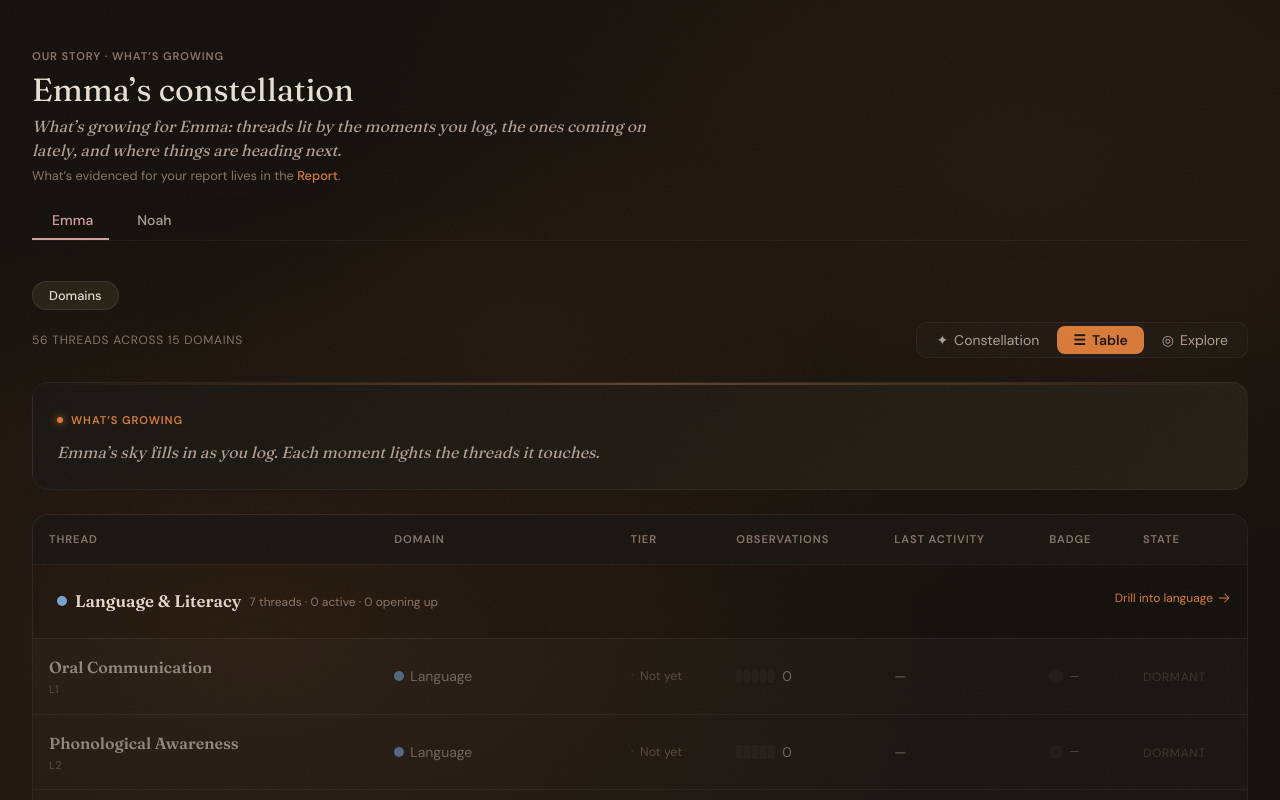
Scenario: ConstellationRoute › DLO confirm optimistic override › flips the confirm control optimistically and keeps it on when the POST succeeds
The width and height of the screenshot is (1280, 800).
Click the button "Drill into": click(640, 601) x1=33 y1=564 x2=1247 y2=638
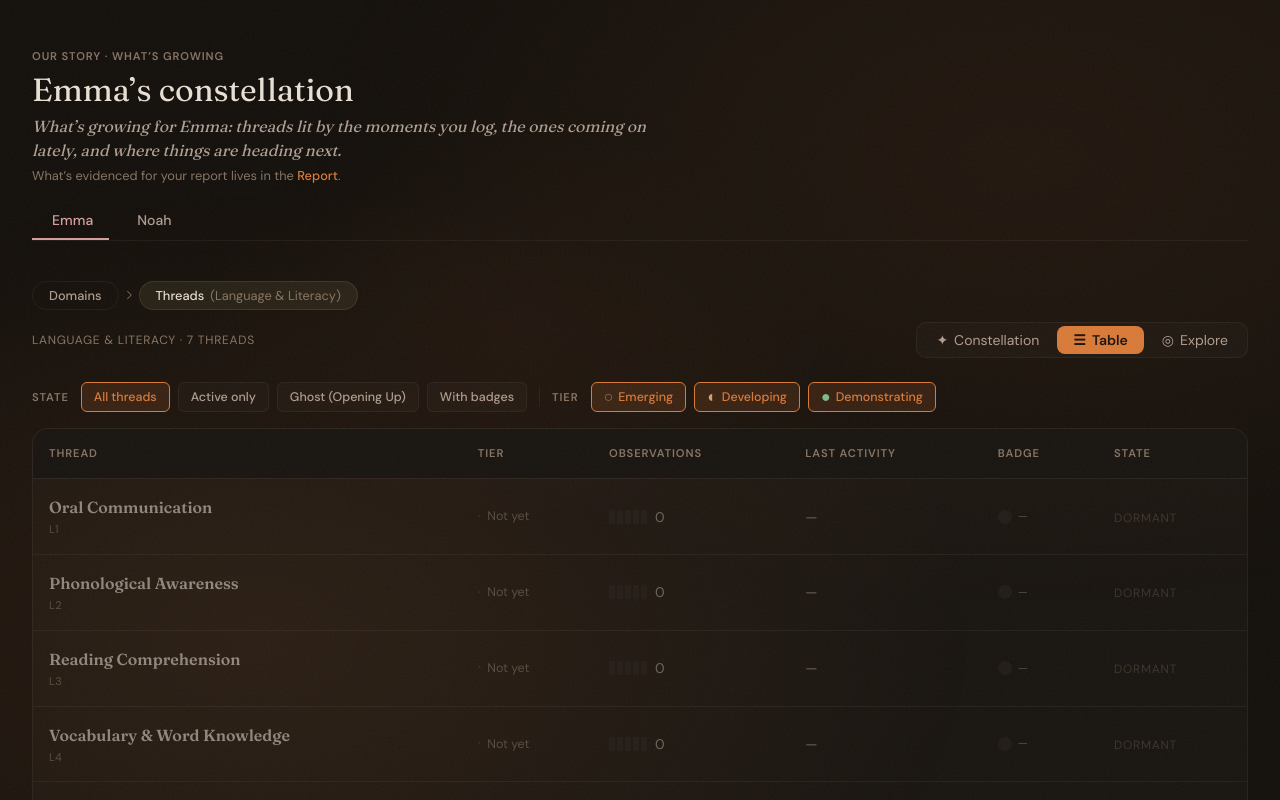
Click the button "Oral Communication L1 · Not yet 0 — — Dormant": click(640, 517) x1=33 y1=479 x2=1247 y2=555
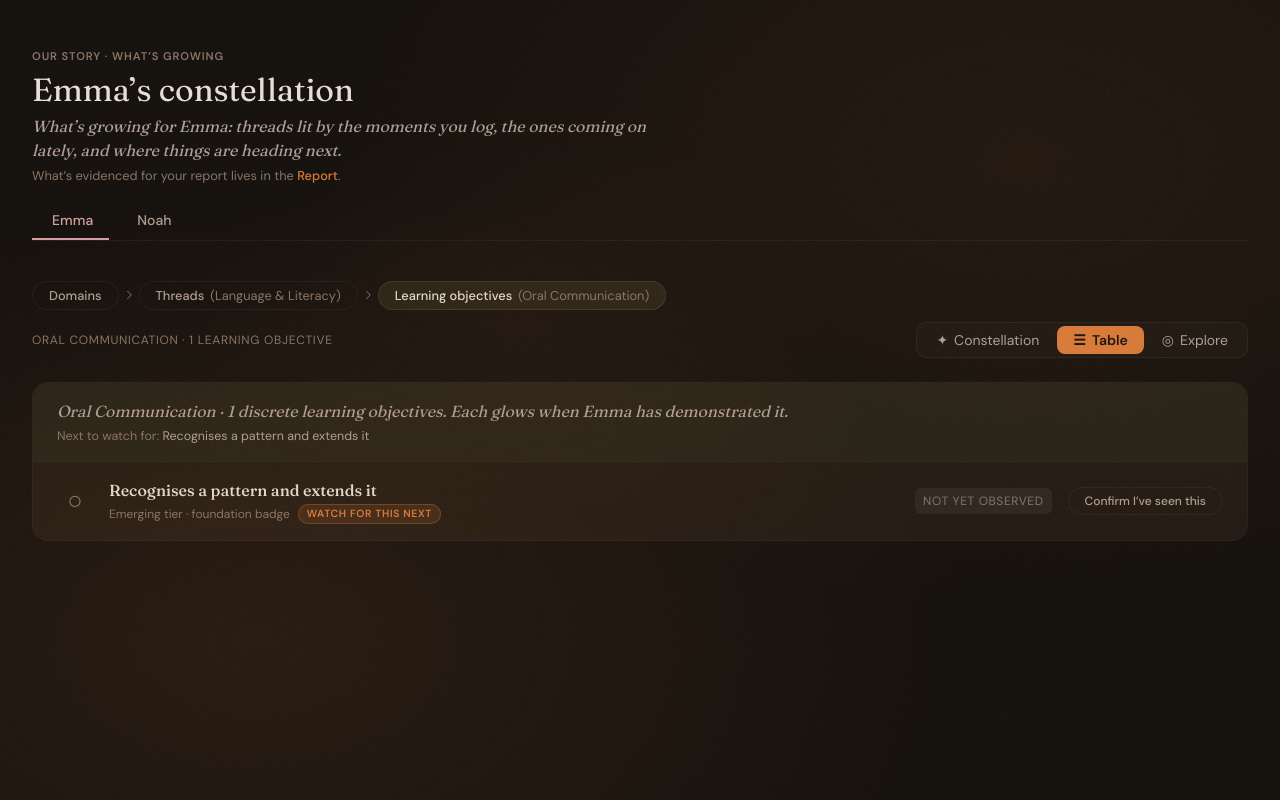
Click the button with aria-label "confirm you've seen": click(1145, 501) x1=1068 y1=487 x2=1223 y2=515
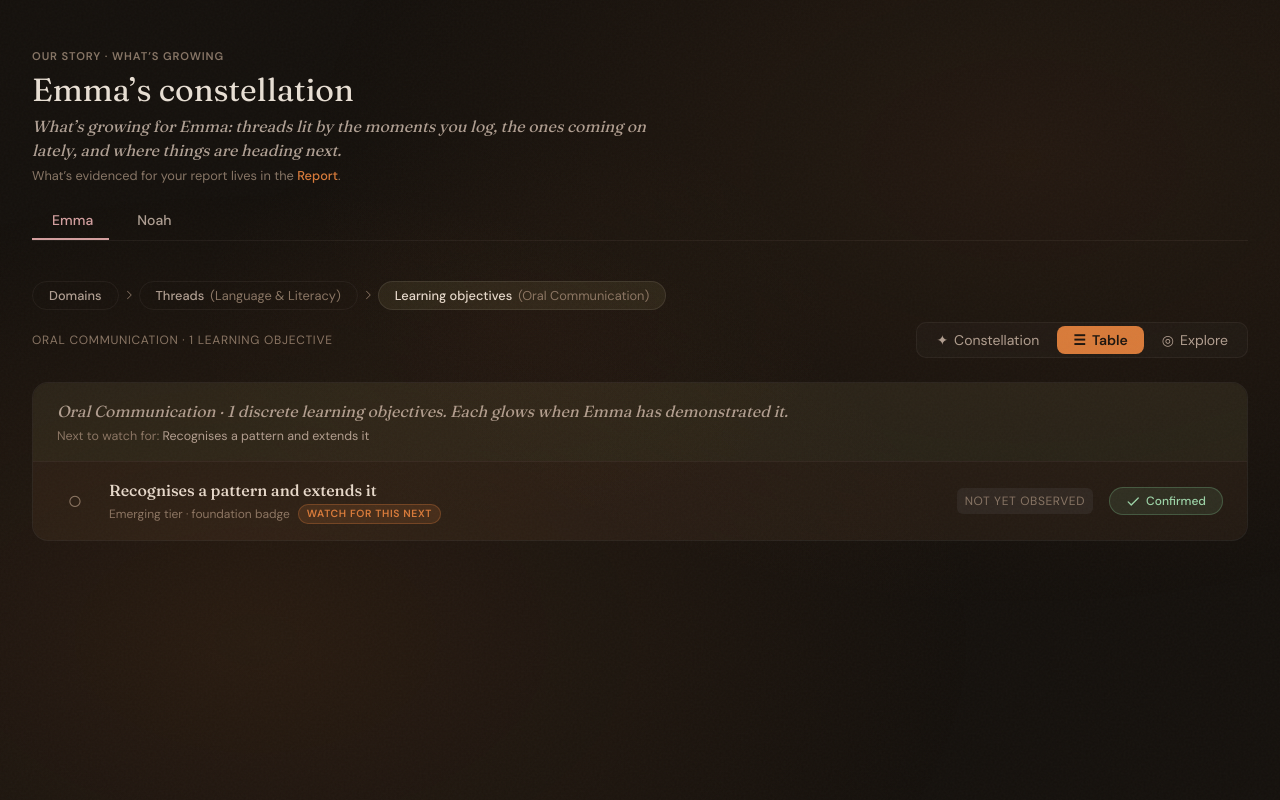
Result: the button named "confirm you've seen" is pressed at x1=1109 y1=487 x2=1223 y2=515
Result: the button with aria-label "you confirmed" is pressed at x1=1109 y1=487 x2=1223 y2=515
